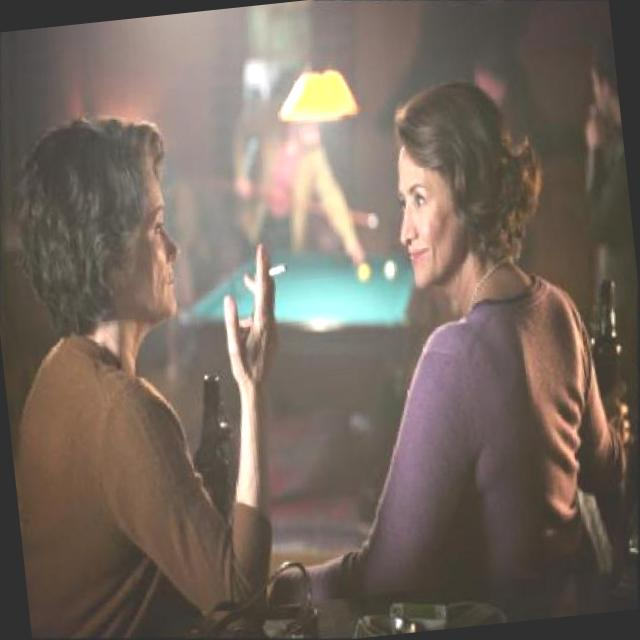cigarette: (264, 262, 294, 283)
